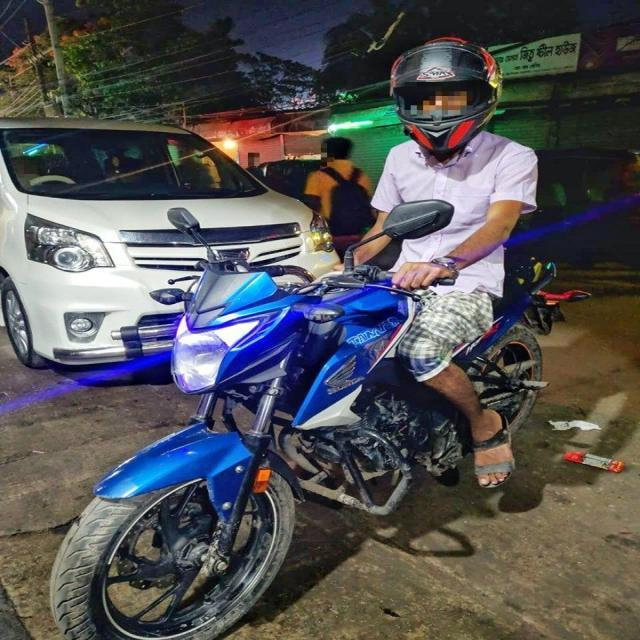Micro-Bus: (4, 92, 349, 378)
Motorbike: (31, 199, 587, 639)
